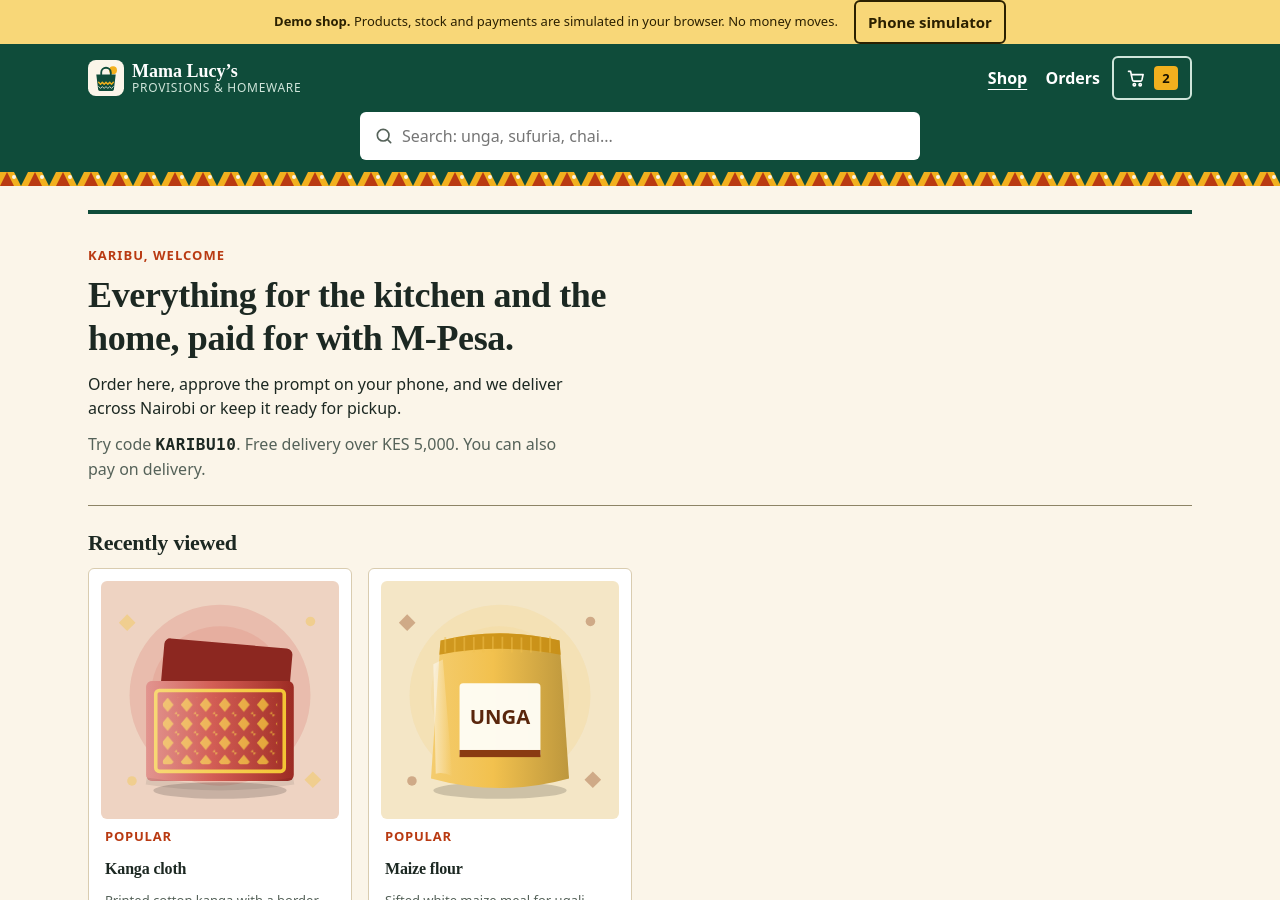
Test case: cart drawer › prices in whole shillings with promo and delivery
Click the button named "Cart," at (1152, 78), box [1112,56,1192,100]
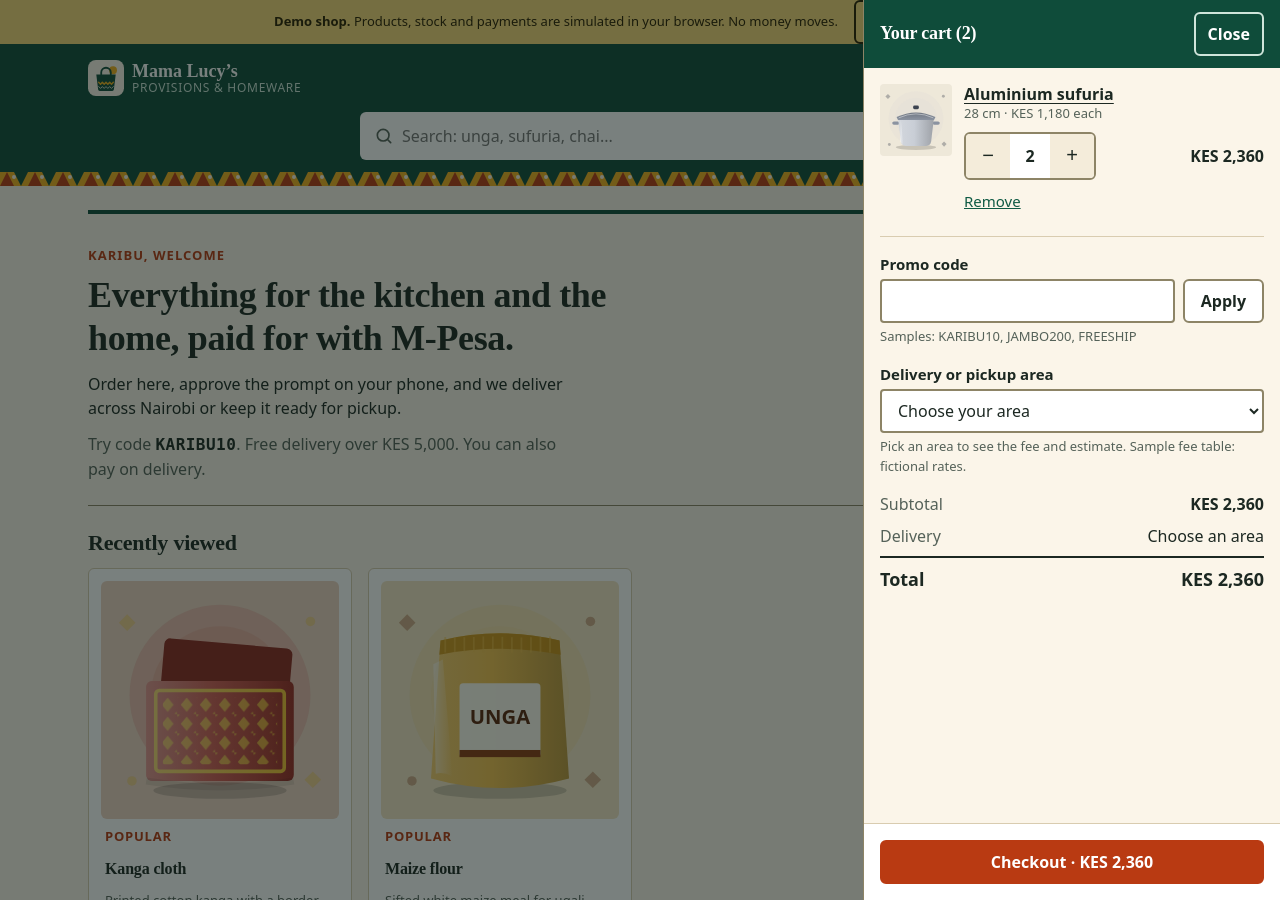
Expected: the text with test id "grand-total" reads "KES 2,360", [1181,567,1264,591]
Type "nope" into the field labelled "Promo code" at (1027, 301), box [880,279,1175,323]
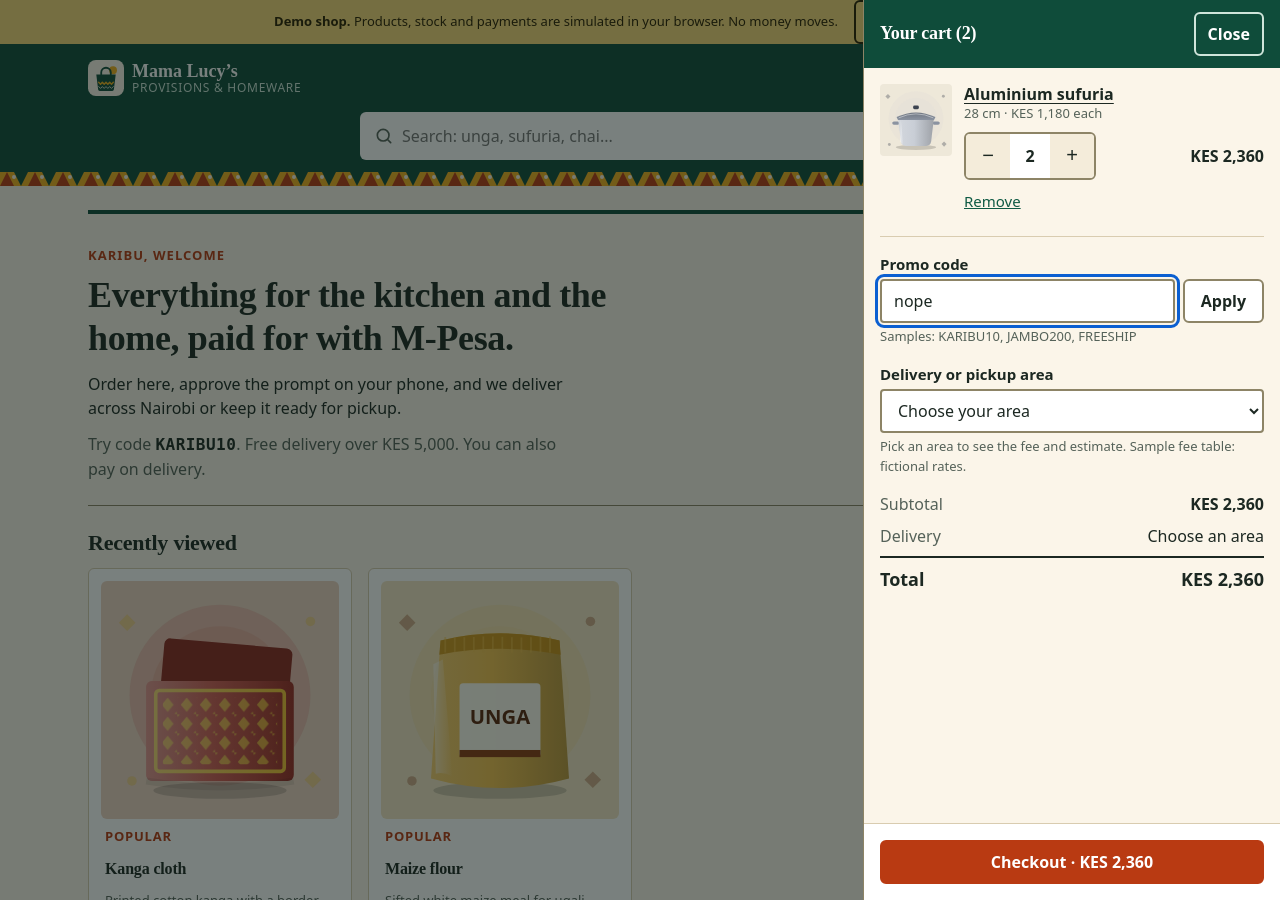
Click the button "Apply" at (1223, 301), box [1183,279,1264,323]
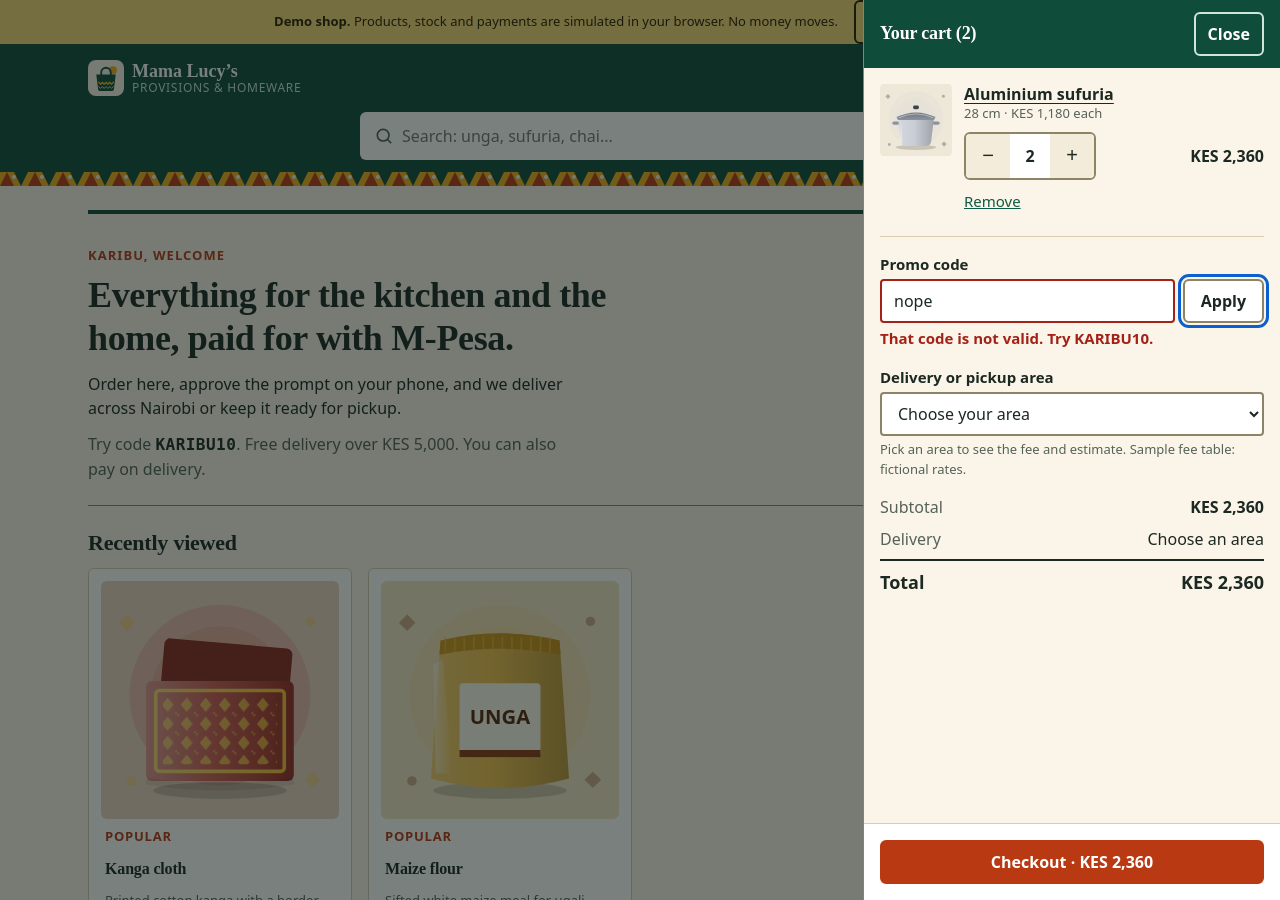
Expected: the text "That code is not valid. Try KARIBU10." is shown, [880,328,1153,348]
Replace the text in the field labelled "Promo code" with "karibu10" at (1027, 301), box [880,279,1175,323]
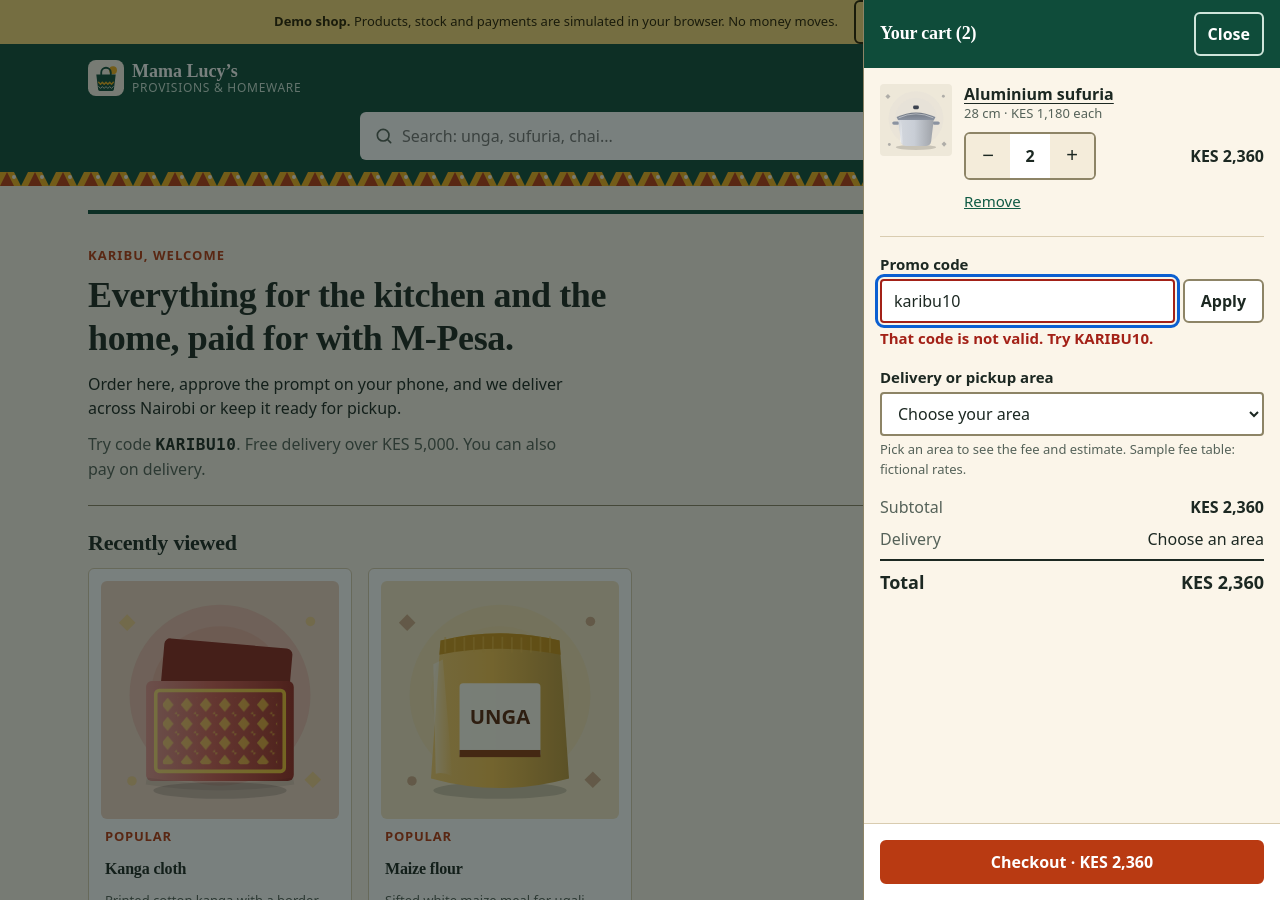
Click the button "Apply" at (1223, 301), box [1183,279,1264,323]
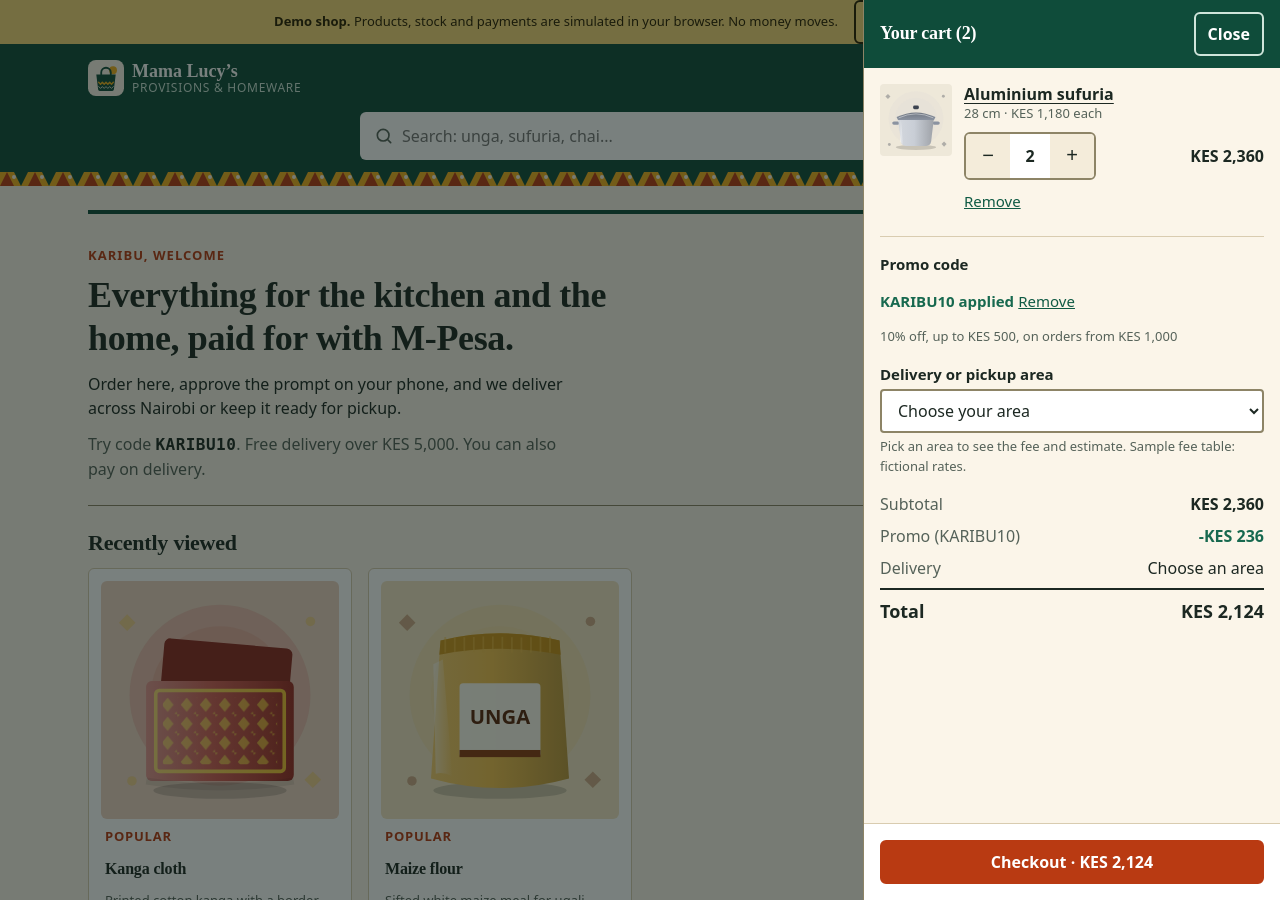
Expected: the text "KARIBU10 applied" is shown, [880,291,1014,311]
Expected: the text with test id "grand-total" reads "KES 2,124", [1181,599,1264,623]
Select "Westlands, Kilimani & Lavington (KES 200)" in the dropdown labelled "Delivery or pickup area" at (1072, 411), box [880,389,1264,433]
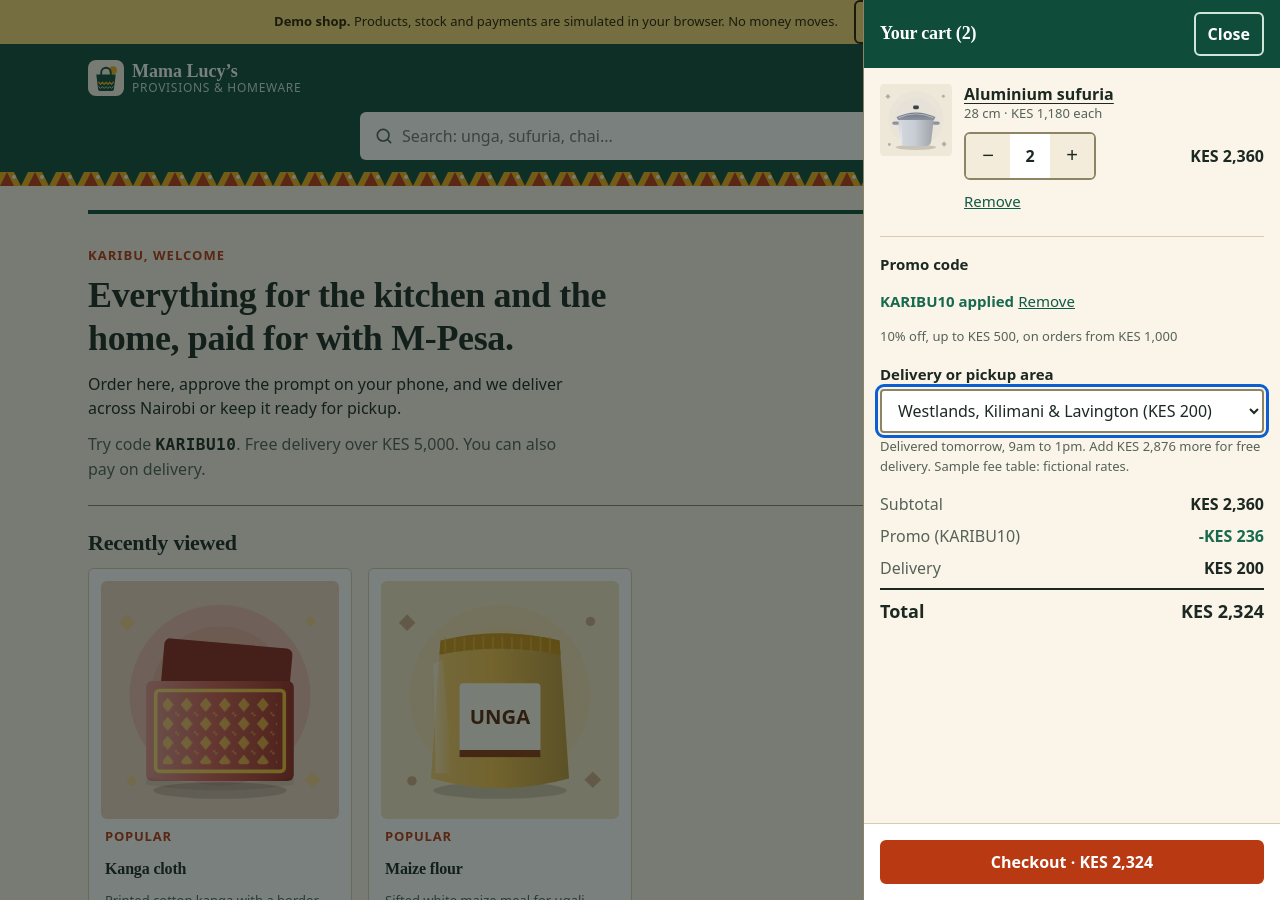
Expected: the text with test id "grand-total" reads "KES 2,324", [1181,599,1264,623]
Expected: the text "Add KES.2,876 more for free delivery" is shown, [880,437,1260,474]
